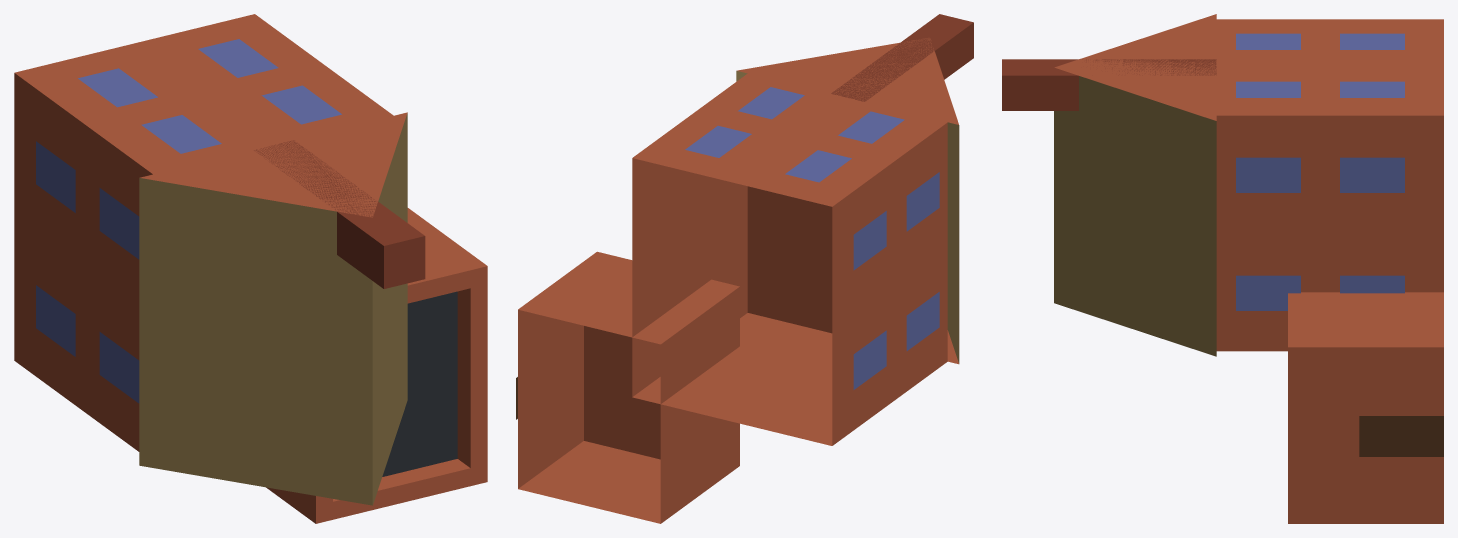
The model's file is construction_2.glb.
3 views of the same model, side by side, from view 1: azimuth 30°, elevation 25°; view 2: azimuth 150°, elevation 25°; view 3: azimuth 270°, elevation 25° (orthographic). The views are drawn at different scales.
Parts seen in each view (by area): view 1: c2; view 2: c2; view 3: c2.
Boxes of the visible parts, <box> form: c2: <box>14,14,487,523</box>; c2: <box>516,14,973,523</box>; c2: <box>1002,14,1443,523</box>.
Size of the model in its own units: 11.46 by 12.12 by 13.6.
